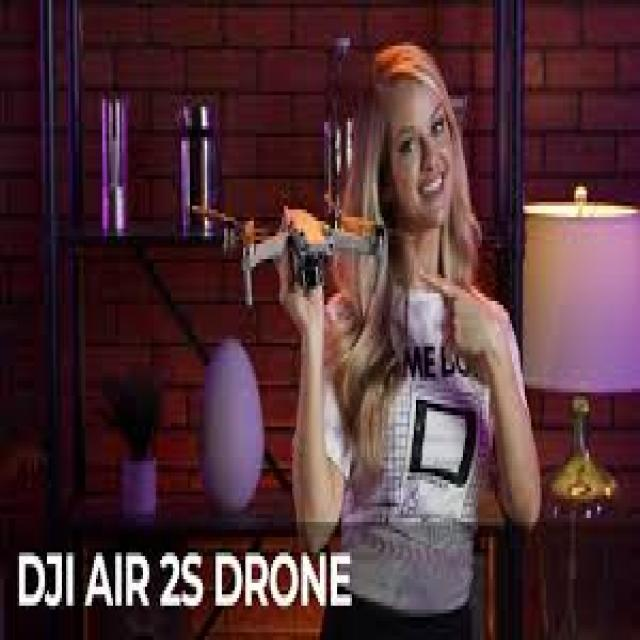drone: (188, 163, 410, 312)
